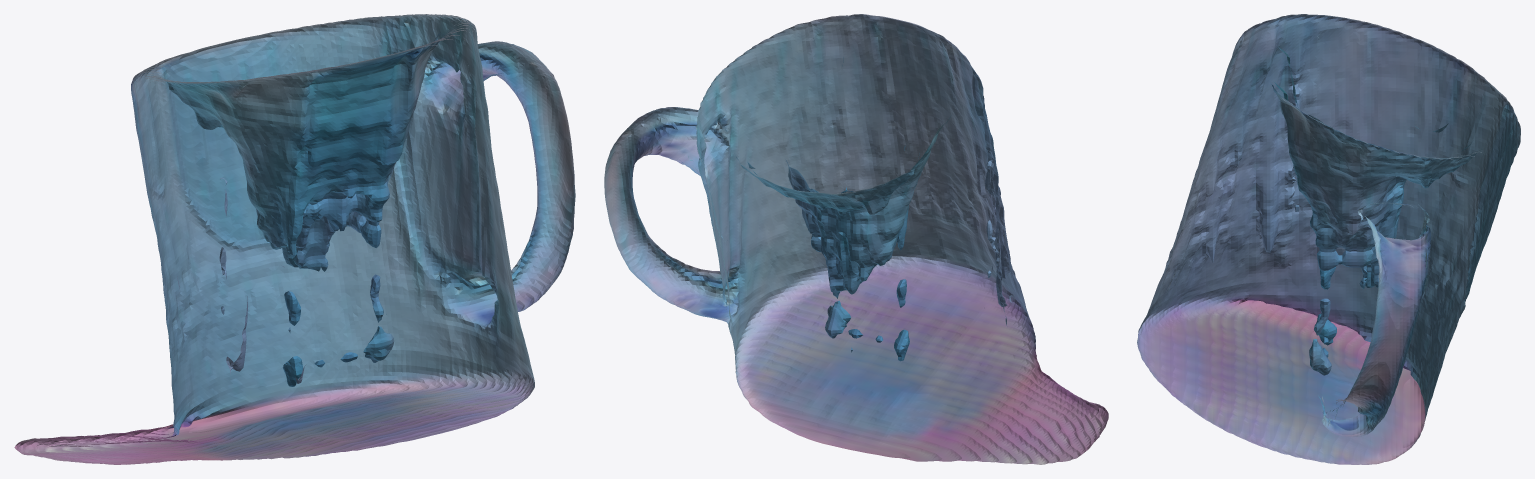
3 renders of one model, left to right at view 1: azimuth 30°, elevation 25°; view 2: azimuth 150°, elevation 25°; view 3: azimuth 270°, elevation 25°, orthographic. The views are drawn at different scales.
Visible parts, largest first — view 1: geometry_0; view 2: geometry_0; view 3: geometry_0.
Part boxes in pixels (x1,y1,x2,y2): geometry_0: (14, 14, 575, 464); geometry_0: (604, 14, 1108, 464); geometry_0: (1137, 14, 1520, 464).
Size of the model in its own units: 1.6 by 1.15 by 1.06.
